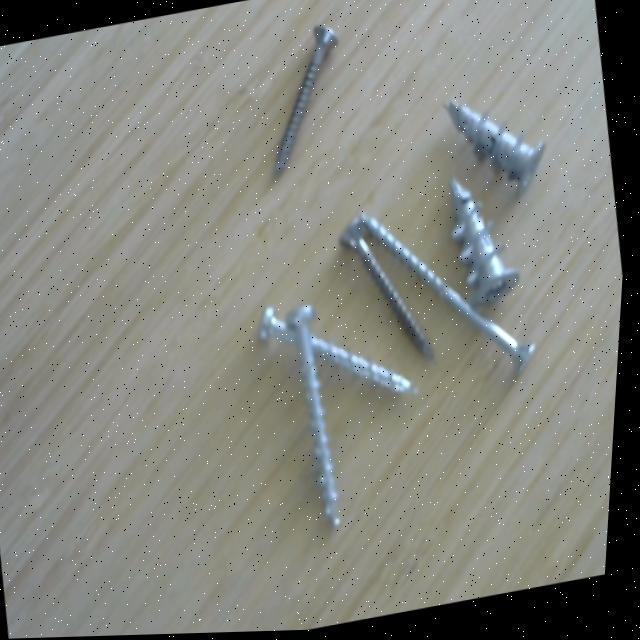Black screw: (326, 198, 453, 392), (249, 11, 365, 183)
Long screw: (356, 180, 559, 412)
Medium screw: (248, 275, 429, 427), (275, 296, 370, 544)
Short screw: (433, 68, 564, 221), (439, 165, 541, 323)
